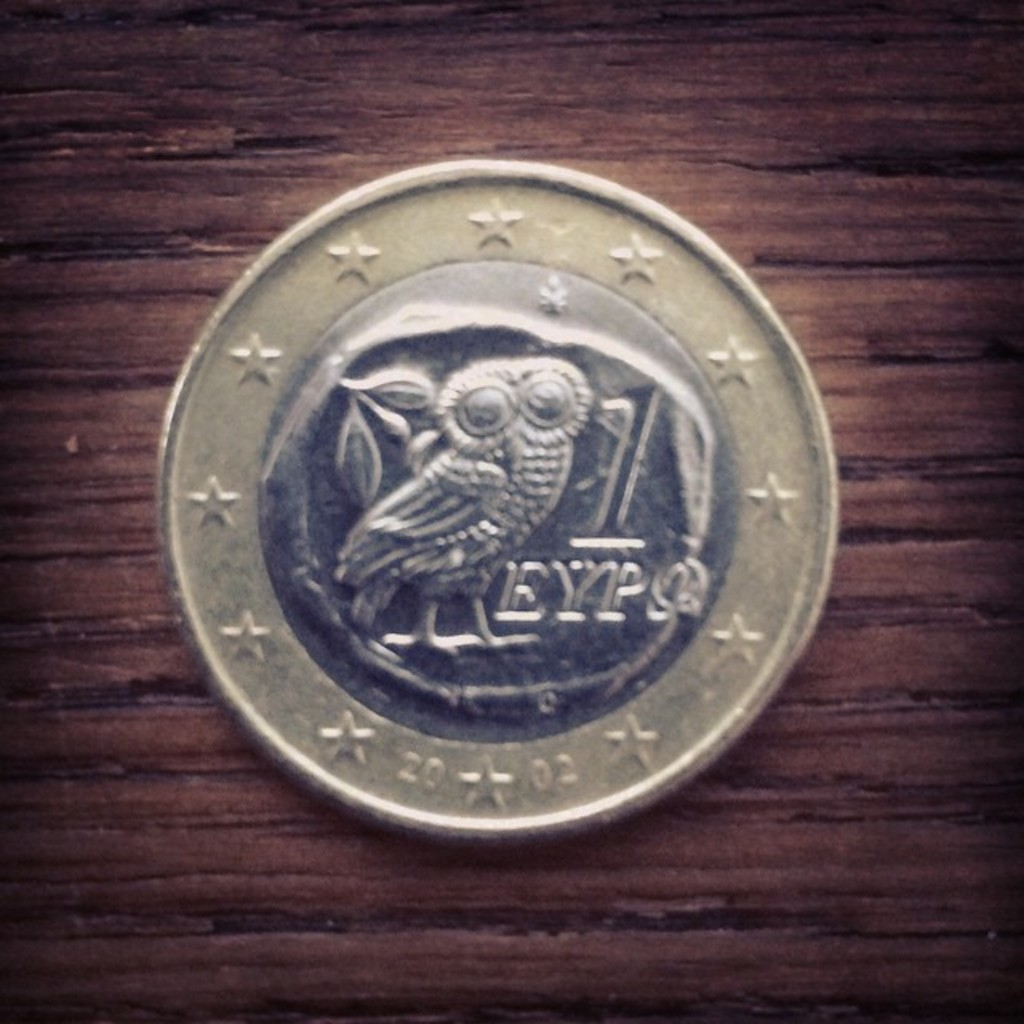Coin: (153, 160, 839, 844)
